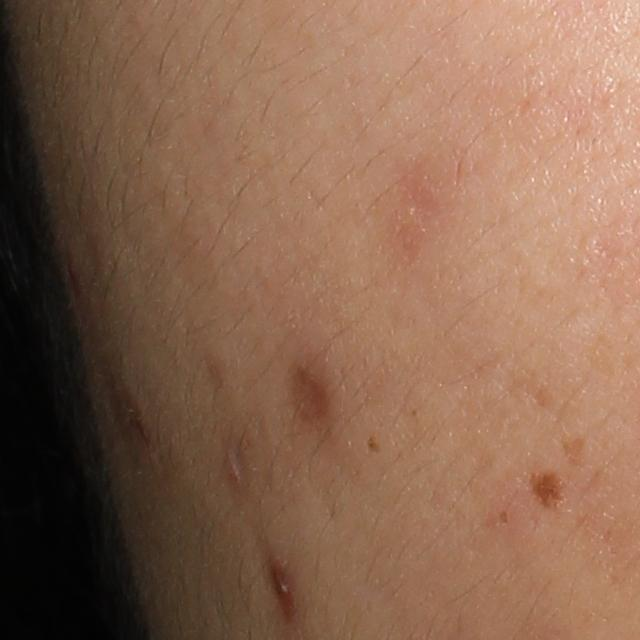melasma: (526, 468, 572, 515)
